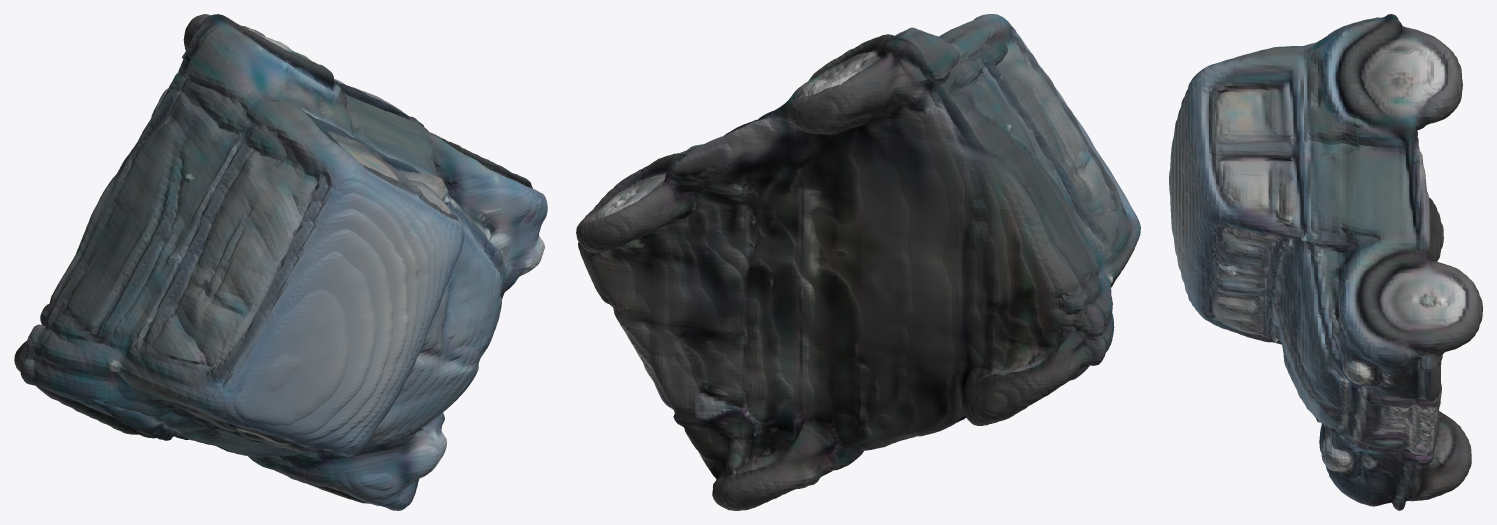
3 renders of one model, left to right at view 1: azimuth 30°, elevation 25°; view 2: azimuth 150°, elevation 25°; view 3: azimuth 270°, elevation 25°, orthographic. The views are drawn at different scales.
Parts seen in each view (by area): view 1: world; view 2: world; view 3: world.
Part boxes in pixels (x1,y1,x2,y2): world: (14,14,547,510); world: (576,14,1140,510); world: (1169,14,1482,510).
Size of the model in its own units: 0.9647 by 0.9158 by 0.6085.
